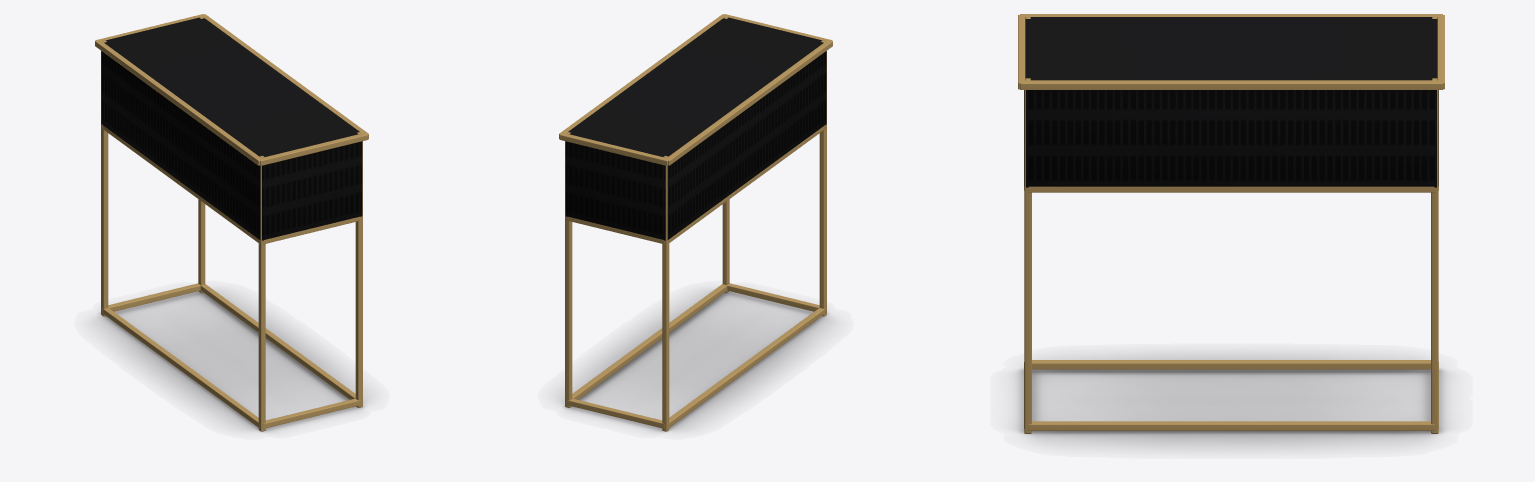
The model's file is gold-console.glb.
3 renders of one model, left to right at view 1: azimuth 30°, elevation 25°; view 2: azimuth 150°, elevation 25°; view 3: azimuth 270°, elevation 25°, orthographic. The views are drawn at different scales.
Visible parts, largest first — view 1: desk_corner__Black side table__mesh, desk_corner__Black side table__shadow; view 2: desk_corner__Black side table__mesh, desk_corner__Black side table__shadow; view 3: desk_corner__Black side table__mesh, desk_corner__Black side table__shadow.
Part boxes in pixels (left/top/right/bottom): desk_corner__Black side table__mesh: left=95, top=14, right=368, bottom=431; desk_corner__Black side table__shadow: left=98, top=291, right=365, bottom=431; desk_corner__Black side table__mesh: left=559, top=14, right=832, bottom=431; desk_corner__Black side table__shadow: left=562, top=291, right=829, bottom=431; desk_corner__Black side table__mesh: left=1018, top=14, right=1444, bottom=433; desk_corner__Black side table__shadow: left=1017, top=356, right=1445, bottom=445.
Bounding box in the file's own units: 0.5024 × 0.62 × 0.9184.
Materials: 3 (2 with a texture image).
